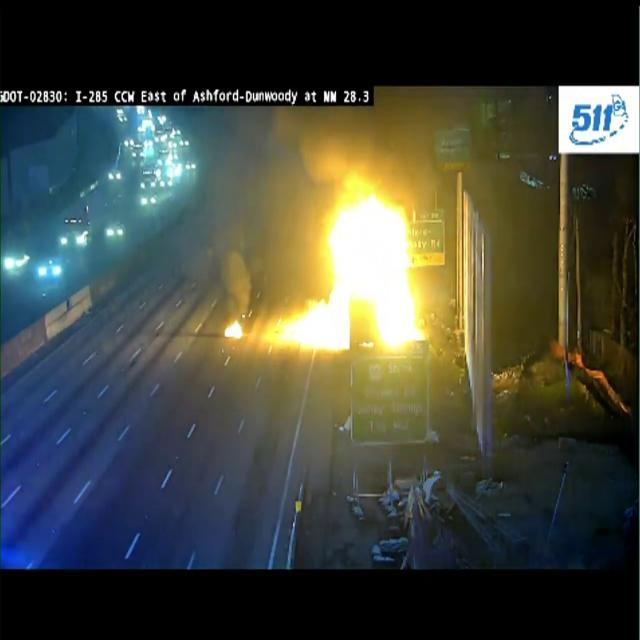Fire: (280, 172, 430, 358), (222, 316, 248, 342)
Smoke: (214, 102, 340, 308)
